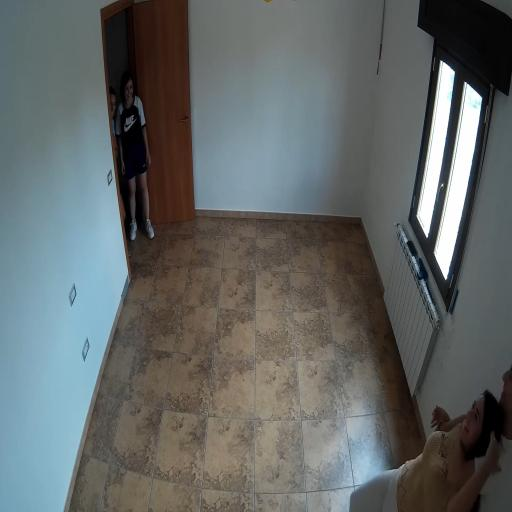violencia: (345, 358, 512, 512)
